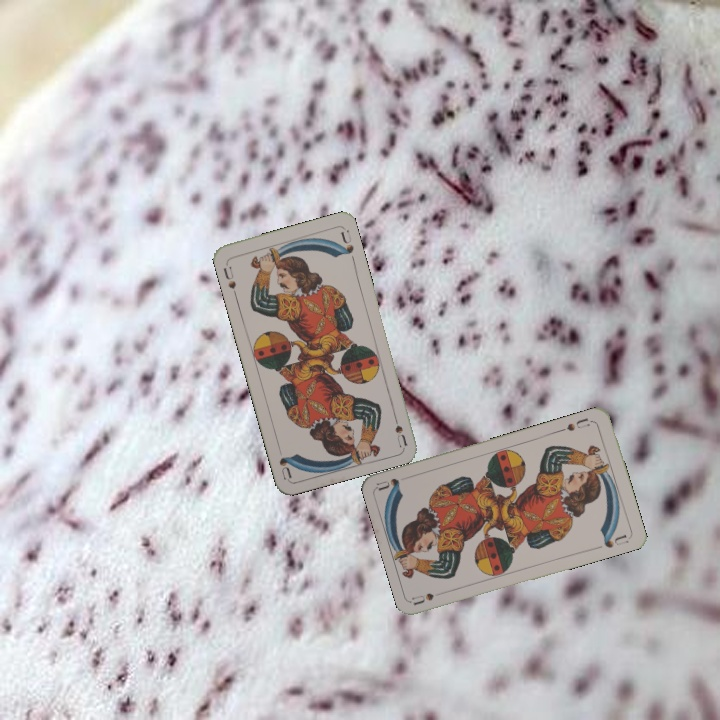SU: (409, 586, 450, 607), (389, 408, 410, 448), (219, 262, 239, 299), (556, 414, 592, 434)
